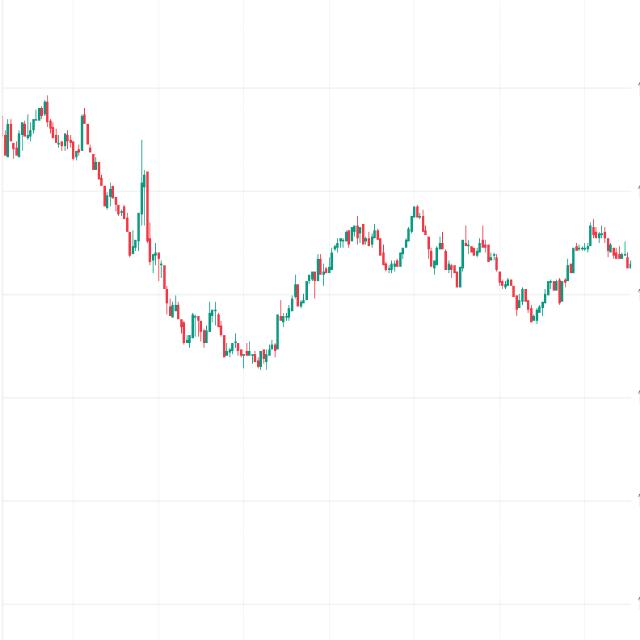Cup-and-handle: (145, 175, 420, 383)
